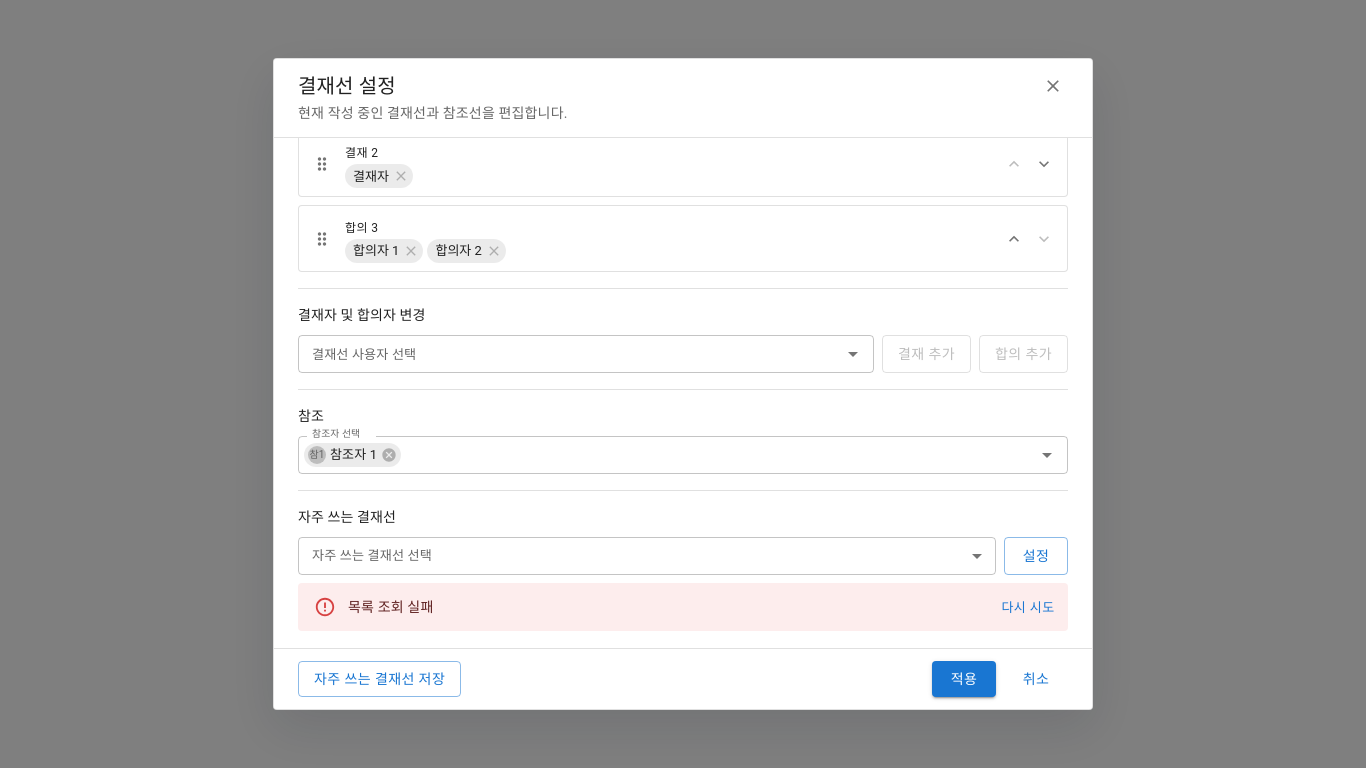
Test: DocumentApprovalSettingsDialog › retries a failed favorite list request
The image size is (1366, 768).
(page scrolled)
Check: the text "목록 조회 실패" is shown, box x1=348 y1=599 x2=433 y2=615
Click the button with aria-label "결재선 목록 다시 시도" at (1028, 608), box x1=996 y1=593 x2=1060 y2=624
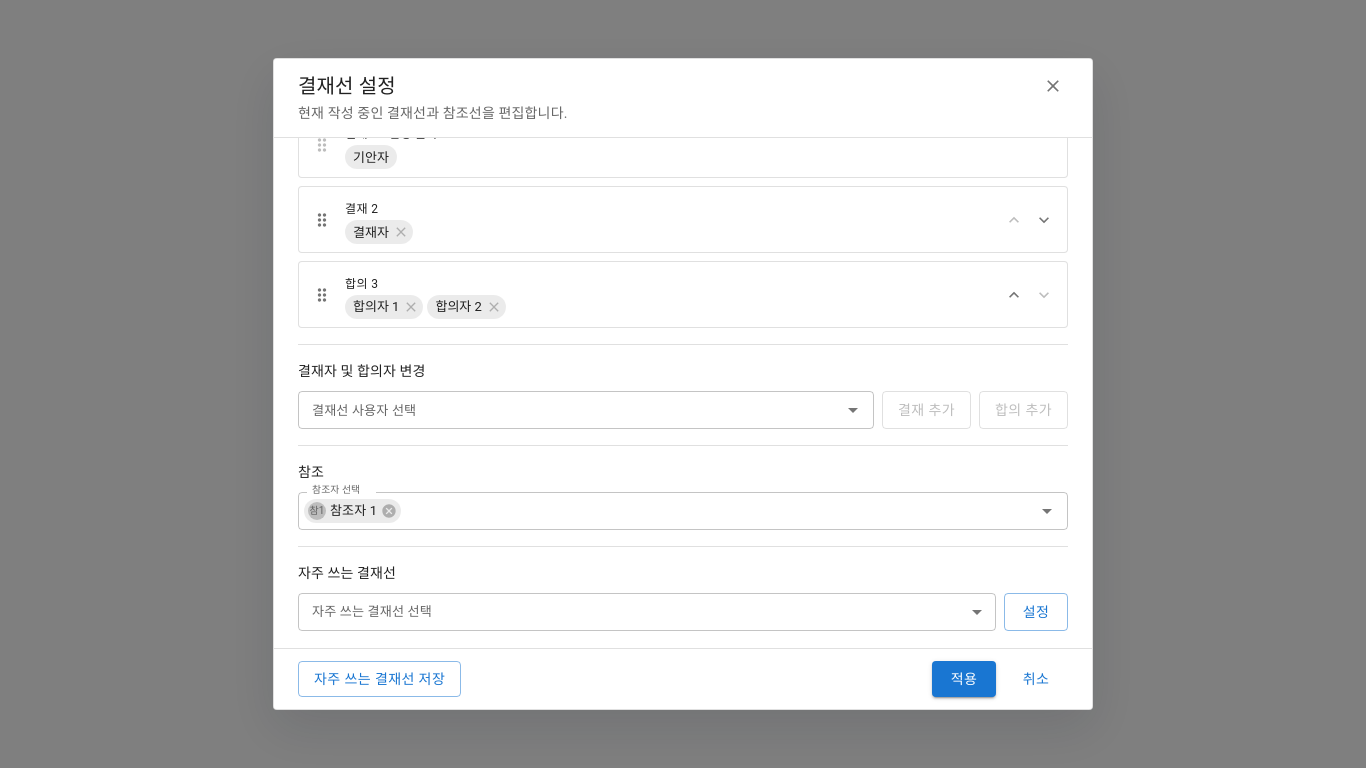
Press the mouse on the dropdown labelled "자주 쓰는 결재선" at (372, 612), box x1=312 y1=604 x2=432 y2=619
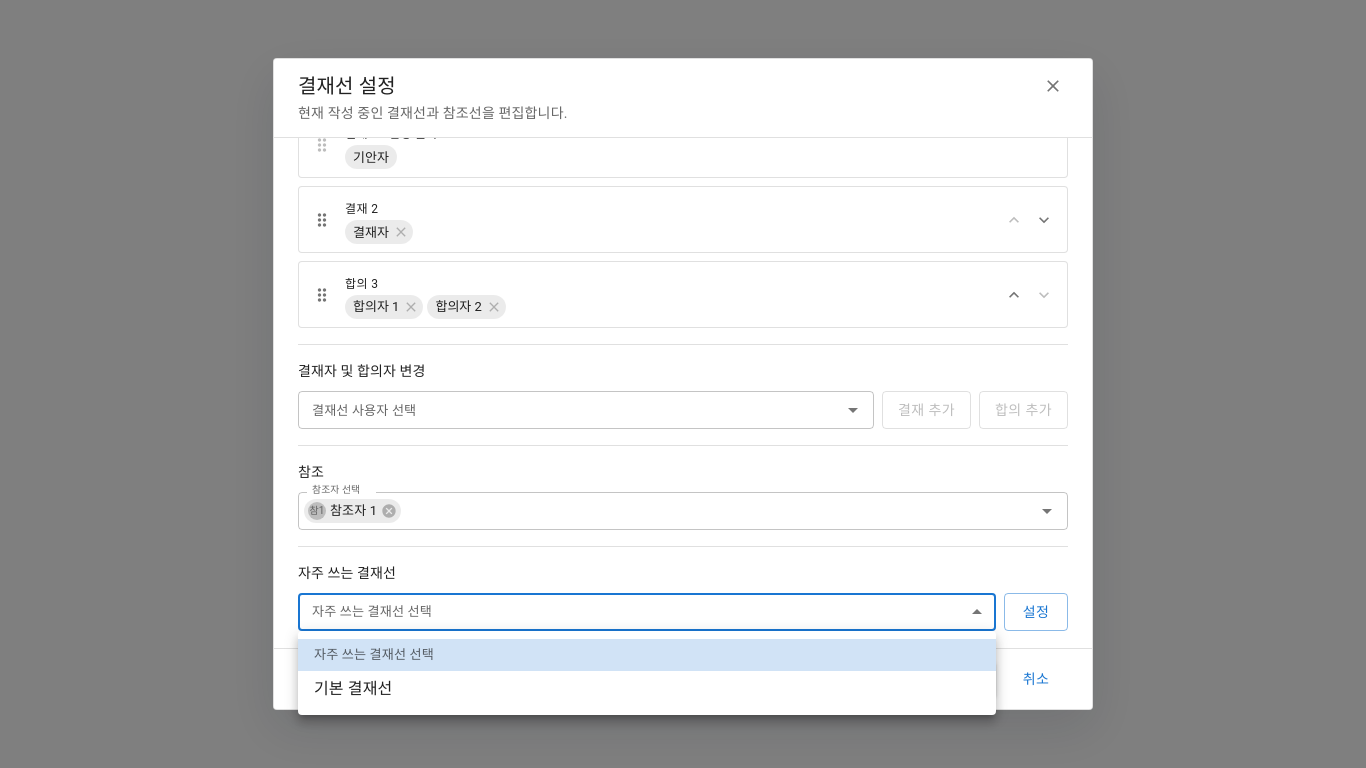
Check: the option "기본 결재선" is shown, box x1=314 y1=679 x2=392 y2=698
